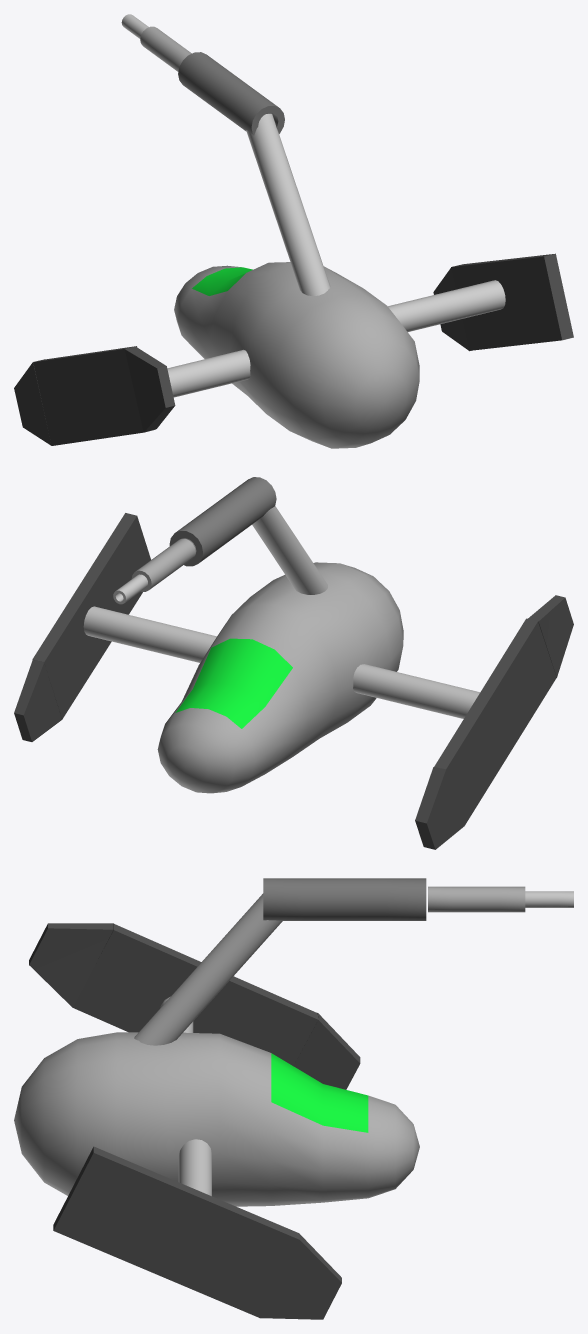
The model's file is hunter.fbx.
3 views of the same model, one above another, from view 1: azimuth 30°, elevation 25°; view 2: azimuth 150°, elevation 25°; view 3: azimuth 270°, elevation 25° (orthographic). The views are drawn at different scales.
Parts seen in each view (by area): view 1: Capsule, Cube, Cube_1, Cylinder_1_2, Tube_3, Cylinder_1, Cube_4, Cylinder_2, Cube_2, Tube_4, Cube_3; view 2: Capsule, Cube, Cube_1, Tube_3, Cylinder_1, Cylinder_2, Cylinder_1_2, Cube_2, Cube_3, Cube_4, Tube_4, Tube_5; view 3: Capsule, Cube_1, Cube, Tube_3, Cylinder_1_2, Cube_4, Cube_3, Cube_2, Tube_4, Cylinder_1, Tube_5.
Boxes of the visible parts, <box> form: Capsule: <box>174,262,419,448</box>; Cube: <box>33,346,155,445</box>; Cube_1: <box>451,253,573,350</box>; Cylinder_1_2: <box>246,113,330,296</box>; Tube_3: <box>178,52,284,135</box>; Cylinder_1: <box>388,280,505,331</box>; Cube_4: <box>124,346,175,432</box>; Cylinder_2: <box>167,349,250,397</box>; Cube_2: <box>14,359,51,445</box>; Tube_4: <box>140,26,191,71</box>; Cube_3: <box>433,267,471,351</box>; Capsule: <box>157,562,403,793</box>; Cube: <box>434,618,556,825</box>; Cube_1: <box>32,513,150,719</box>; Tube_3: <box>169,477,276,566</box>; Cylinder_1: <box>83,606,216,662</box>; Cylinder_2: <box>353,664,479,718</box>; Cylinder_1_2: <box>252,506,327,594</box>; Cube_2: <box>415,767,464,849</box>; Cube_3: <box>14,660,61,741</box>; Cube_4: <box>528,595,573,677</box>; Tube_4: <box>131,538,195,591</box>; Tube_5: <box>113,574,147,604</box>; Capsule: <box>14,1032,419,1206</box>; Cube_1: <box>53,1146,299,1317</box>; Cube: <box>73,924,318,1065</box>; Tube_3: <box>263,878,426,920</box>; Cylinder_1_2: <box>134,893,282,1045</box>; Cube_4: <box>29,923,113,1007</box>; Cube_3: <box>259,1233,341,1319</box>; Cube_2: <box>293,1013,360,1089</box>; Tube_4: <box>428,886,525,912</box>; Cylinder_1: <box>178,1139,211,1196</box>; Tube_5: <box>525,891,573,907</box>.
Bounding box in the file's own units: 307 × 205 × 318.
